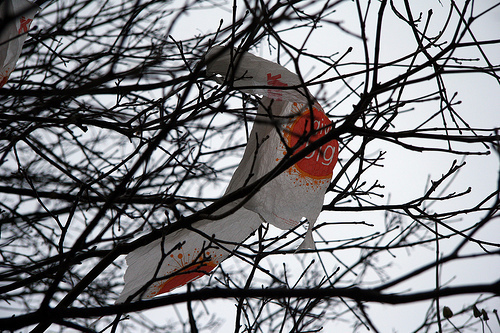litter: (113, 47, 340, 306), (0, 0, 40, 97)
